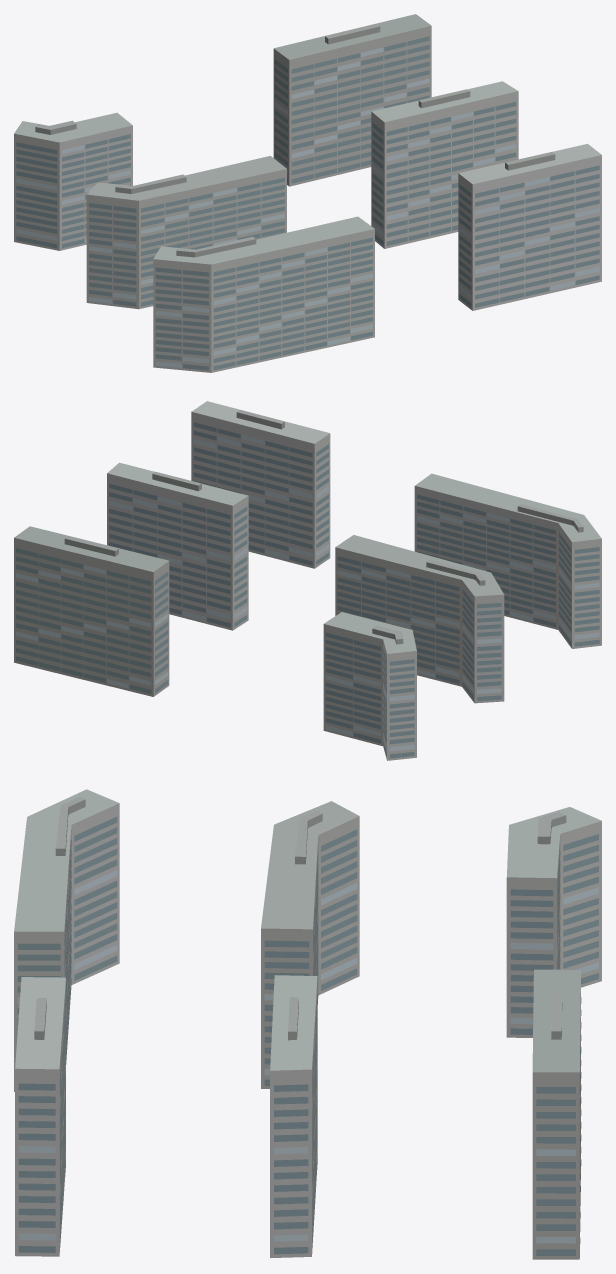
The model's file is apt-a15722307.glb.
3 renders of one model, top to bottom at view 1: azimuth 30°, elevation 25°; view 2: azimuth 150°, elevation 25°; view 3: azimuth 270°, elevation 25°, orthographic. The views are drawn at different scales.
Parts seen in each view (by area): view 1: apt-a15722307; view 2: apt-a15722307; view 3: apt-a15722307.
Boxes of the visible parts, x1,y1,x2,y2 form: apt-a15722307: [14, 14, 601, 372]; apt-a15722307: [14, 401, 601, 760]; apt-a15722307: [14, 789, 601, 1259].
Size of the model in its own units: 162 by 47.81 by 130.
